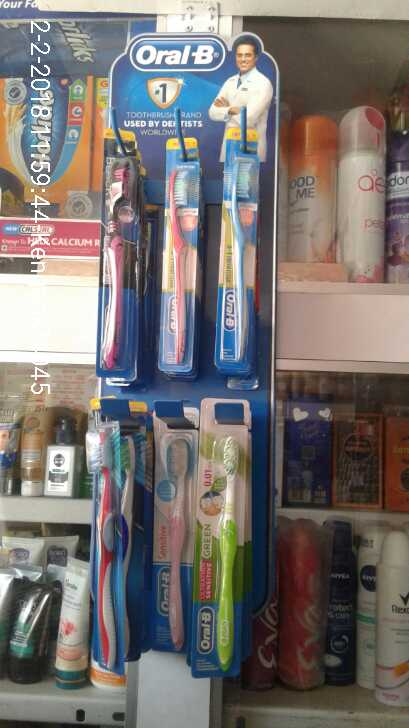oralb: (83, 408, 130, 676), (203, 420, 244, 672), (219, 156, 259, 367), (100, 153, 132, 381), (161, 167, 187, 370), (166, 431, 186, 646)
